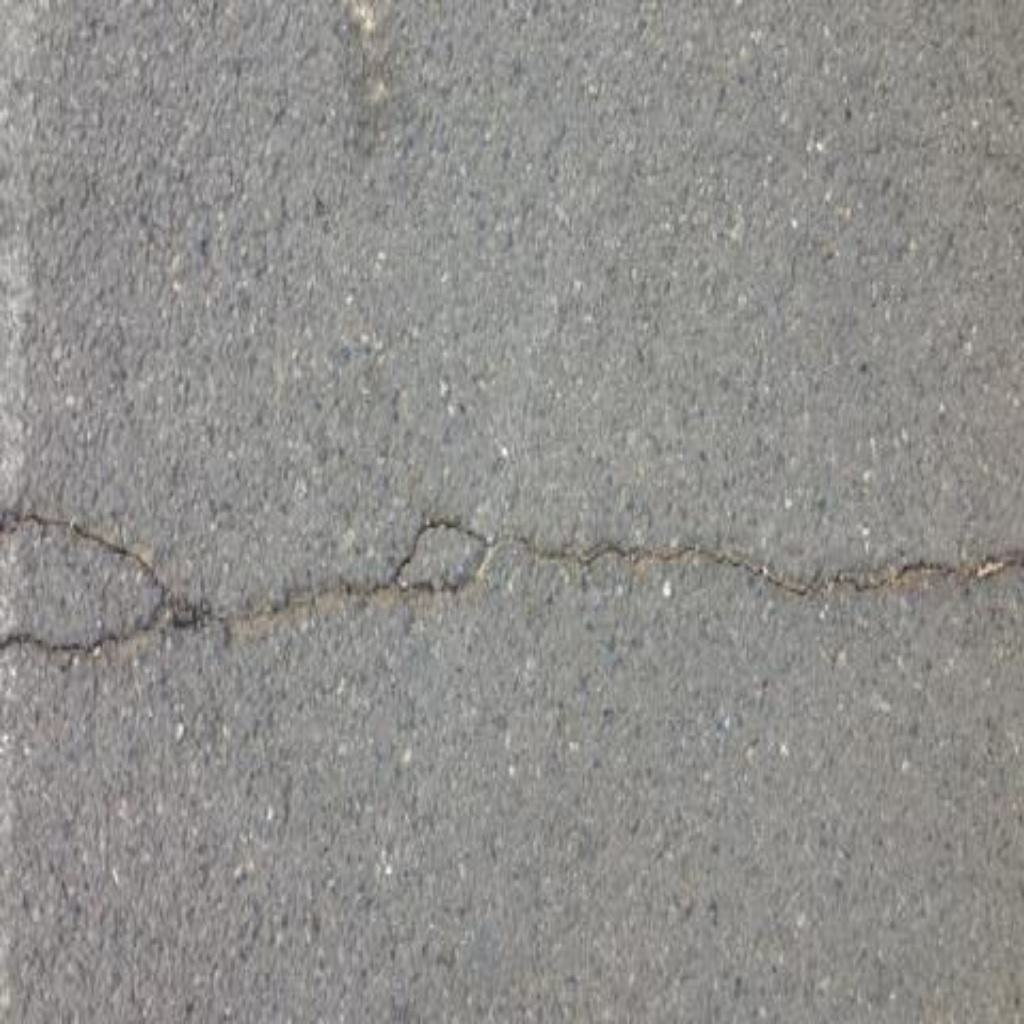Crack: (1, 510, 1024, 664)
